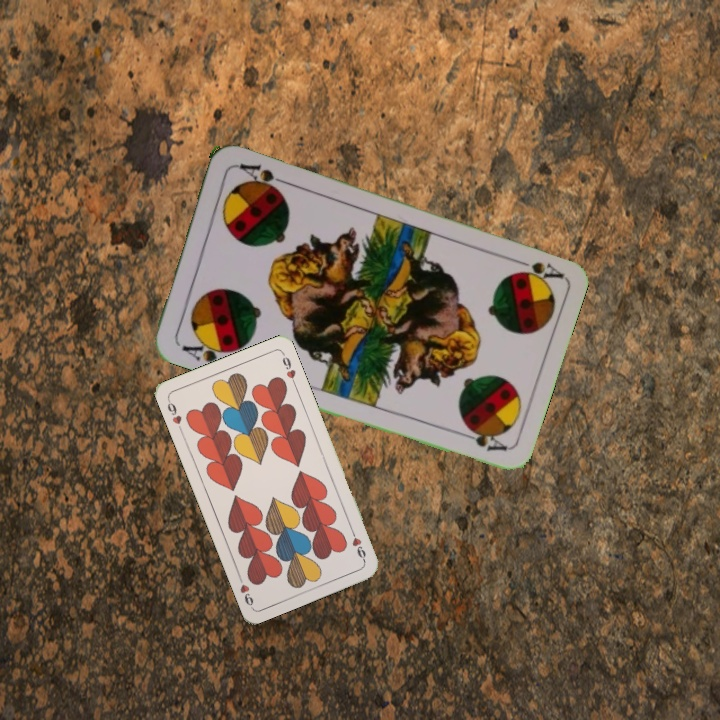H9: (163, 395, 185, 434), (347, 525, 369, 564)
SA: (178, 334, 233, 365), (507, 253, 564, 282)
